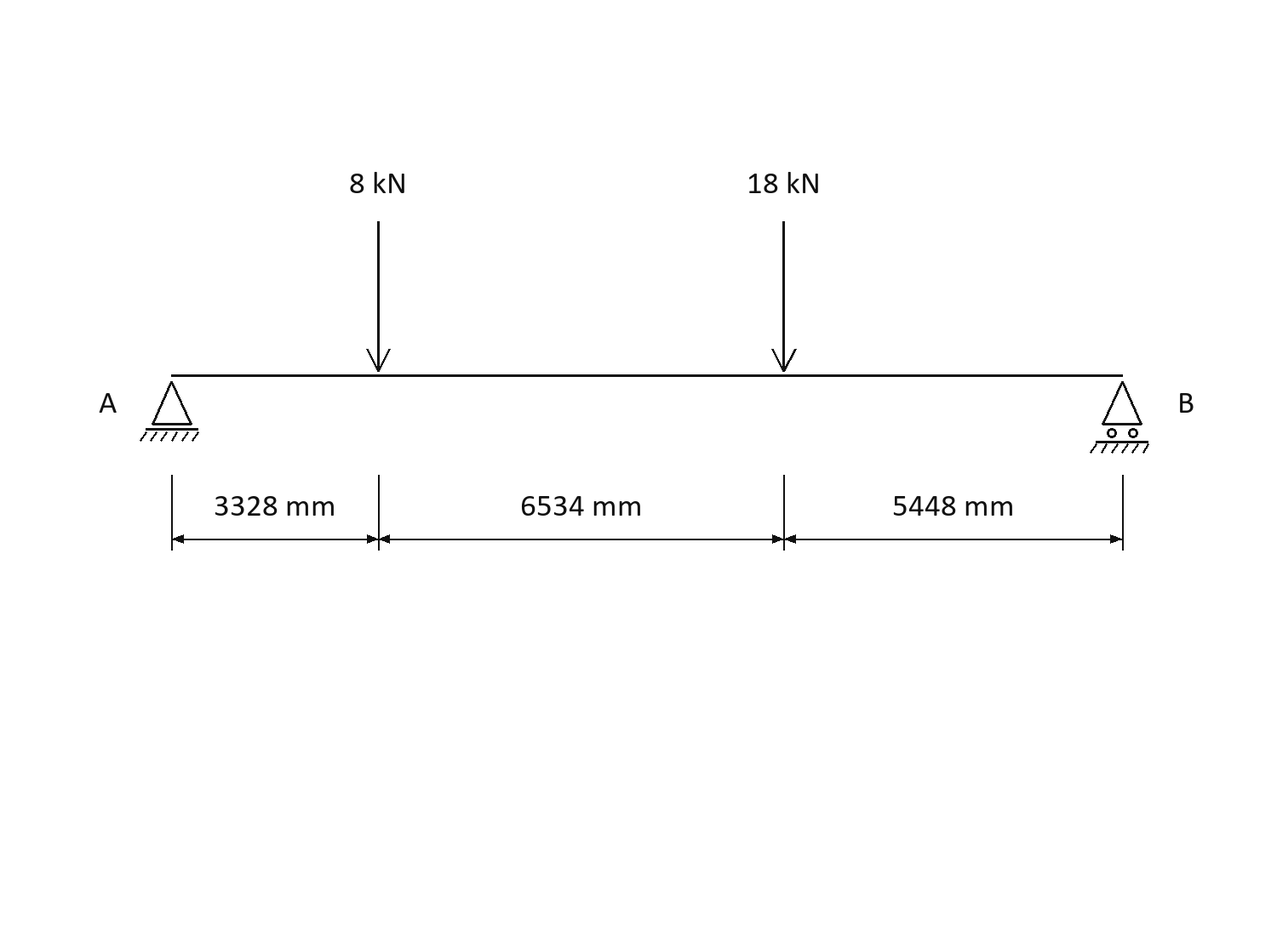pin_support: (140, 381, 199, 442)
point_load: (771, 221, 797, 372), (366, 221, 391, 372)
roller_support: (1090, 381, 1149, 454)
